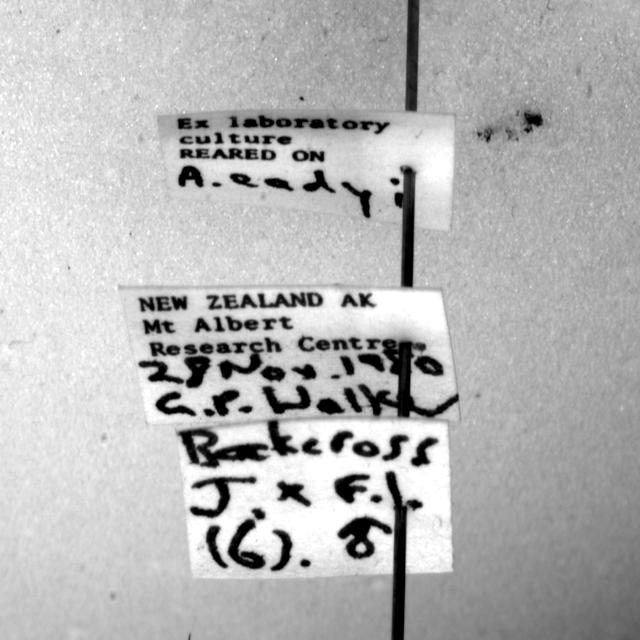hand_label: (178, 418, 452, 578)
mixed_label: (120, 285, 460, 424), (158, 109, 455, 231)
